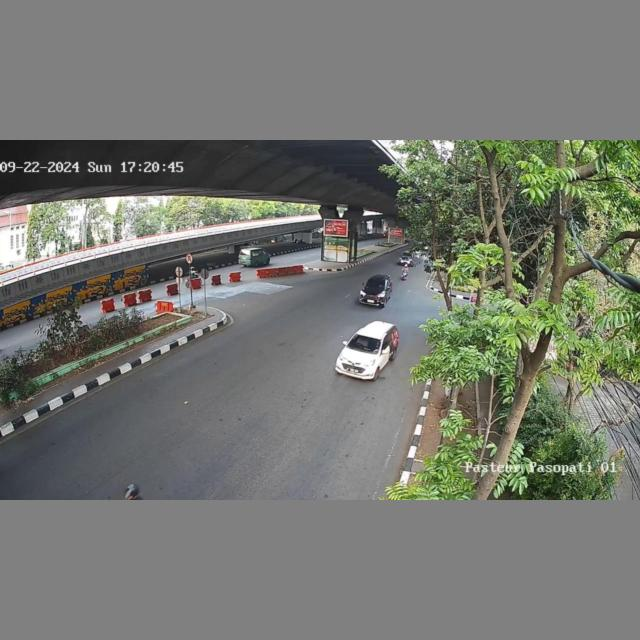windshield: (346, 334, 382, 356), (366, 280, 385, 291)
